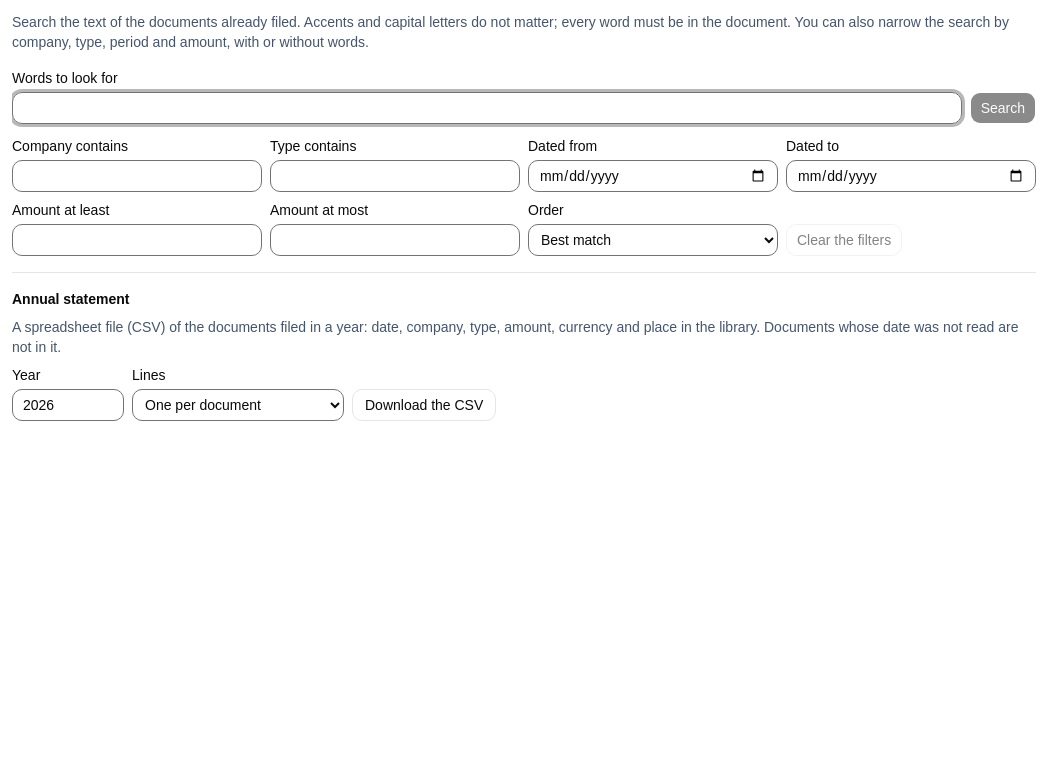
Scenario: the words found are marked as elements, never as HTML, and the count is announced
Type "word" into the search field labelled "Words to look for" at (487, 108), box [12, 92, 962, 124]
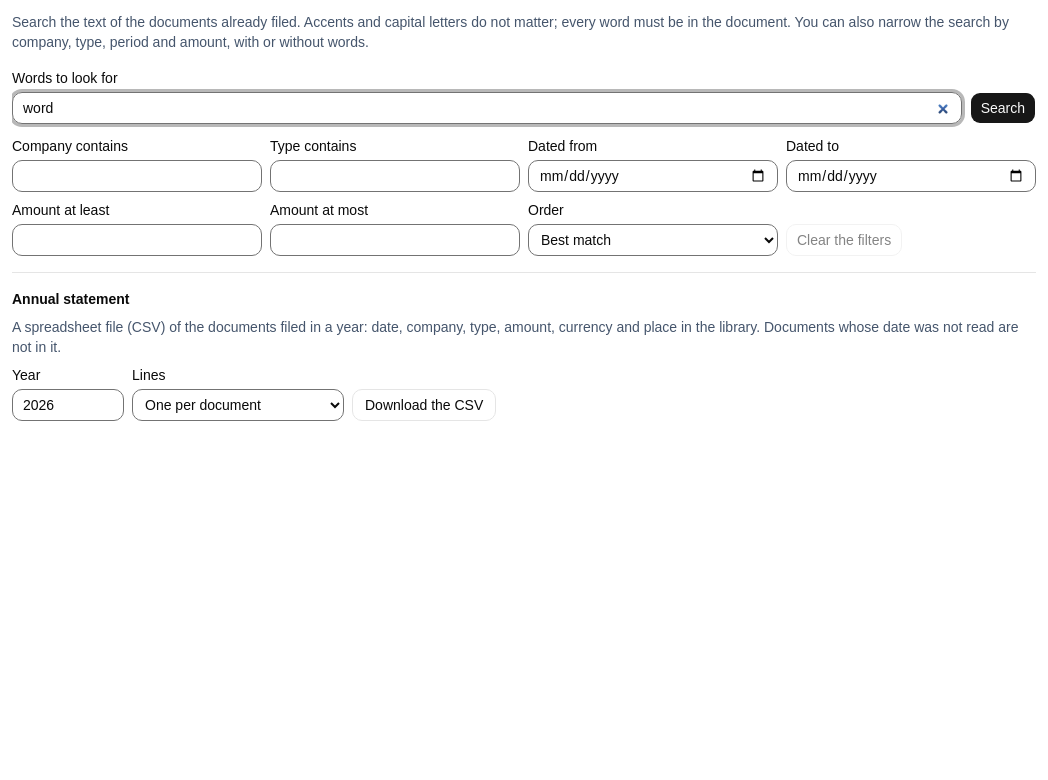
Submit the form labelled "Words to look for", box [12, 68, 1036, 256]
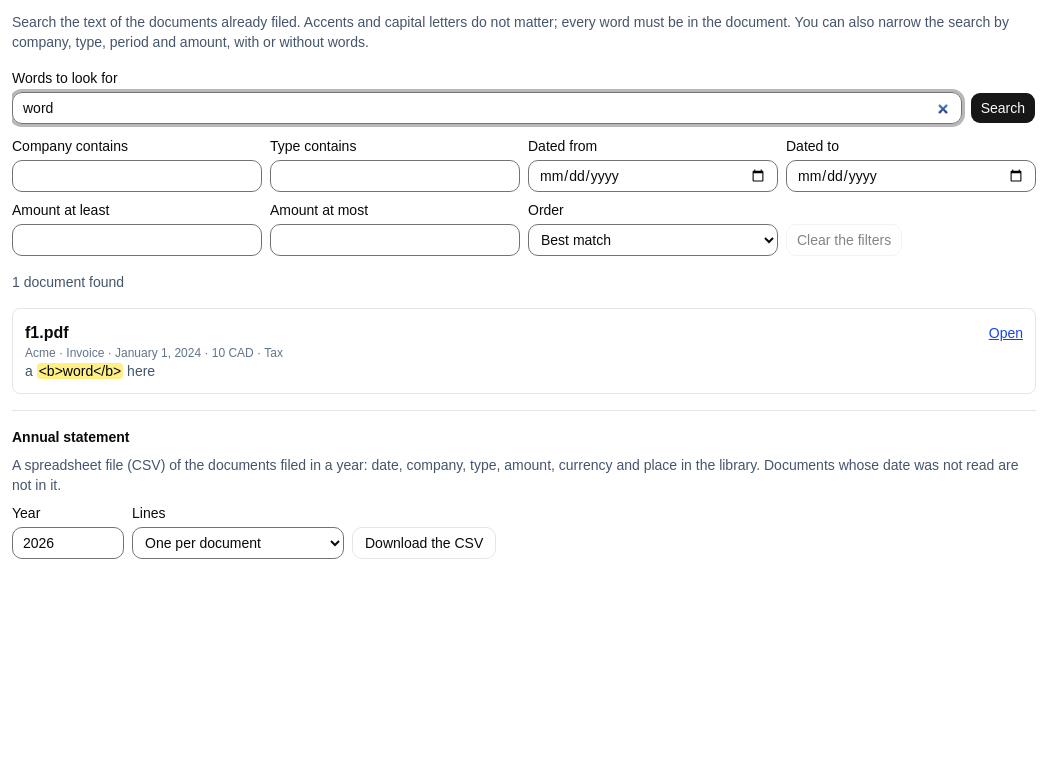
Now the text "f1.pdf" is shown, box [25, 321, 68, 345]
Now the message "1 document found" is shown, box [12, 274, 124, 290]
